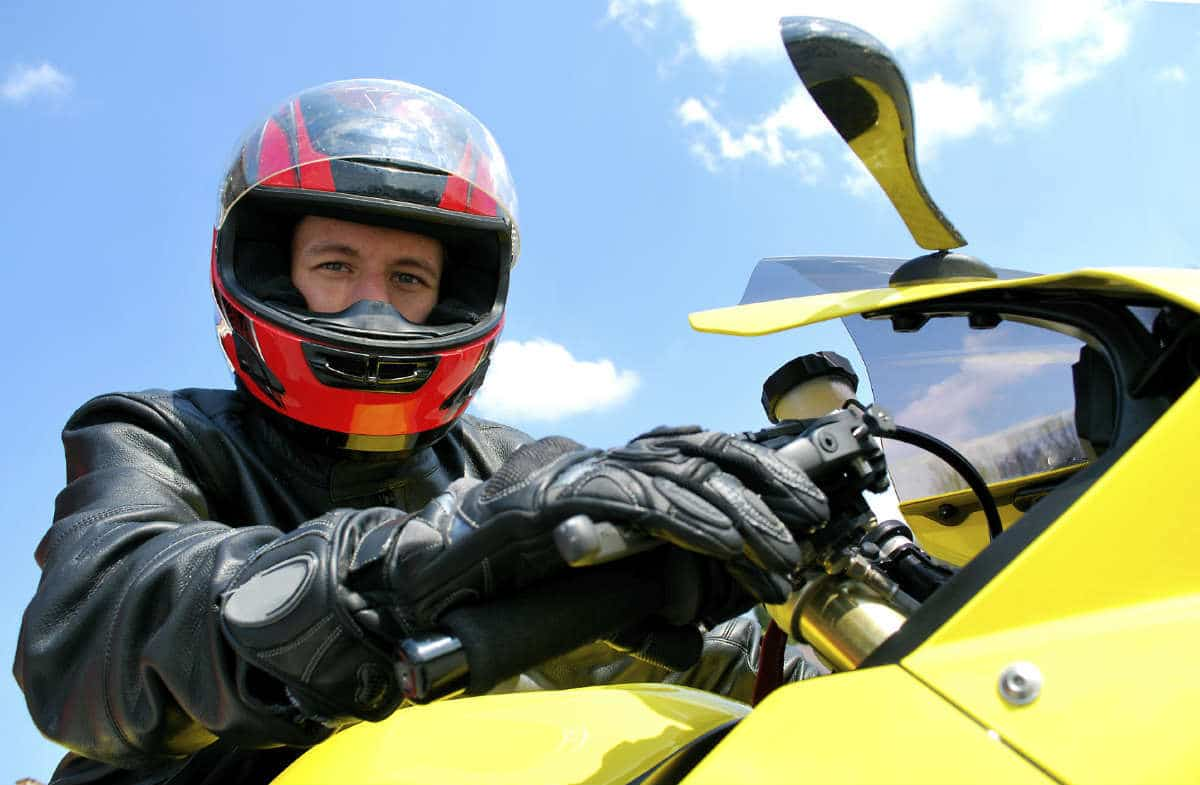with_helmet: (197, 67, 525, 463)
